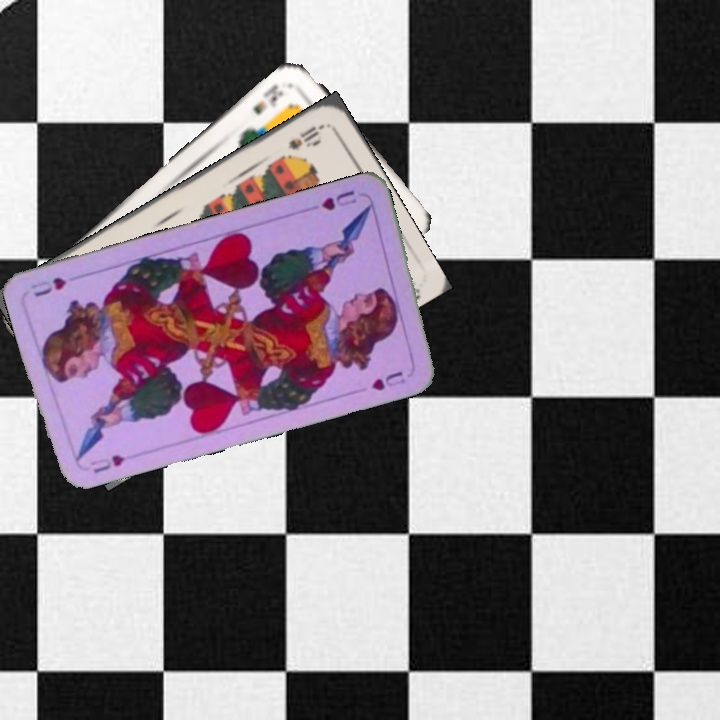EK: (249, 79, 286, 117)
HU: (317, 186, 360, 213), (89, 450, 127, 476)
S10: (283, 120, 327, 153)
